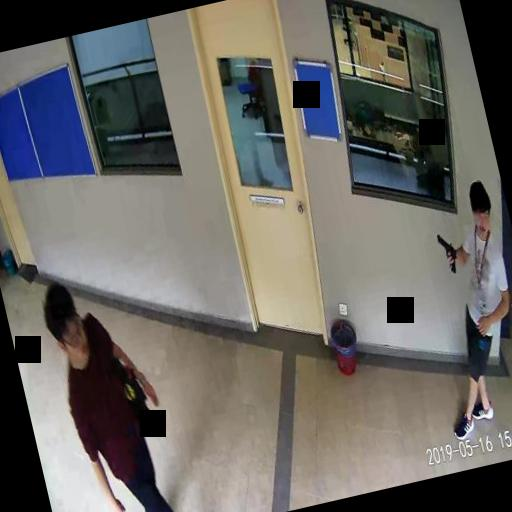Handgun: (434, 230, 458, 274)
